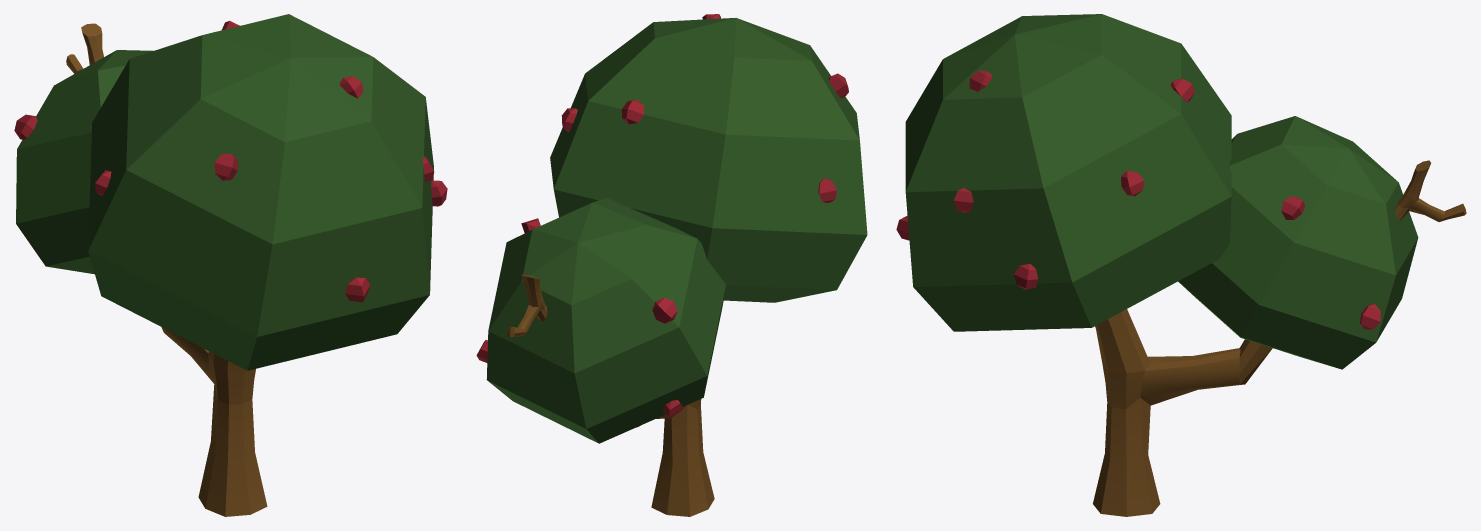
File: thornybush.fbx
3 renders of one model, left to right at view 1: azimuth 30°, elevation 25°; view 2: azimuth 150°, elevation 25°; view 3: azimuth 270°, elevation 25°, orthographic. The views are drawn at different scales.
Parts seen in each view (by area): view 1: trunk3; view 2: trunk3; view 3: trunk3.
Part boxes in pixels (x1,y1,x2,y2): trunk3: [14, 14, 447, 516]; trunk3: [476, 14, 867, 516]; trunk3: [896, 14, 1466, 516].
Bounding box in the file's own units: 415 × 559 × 615.
